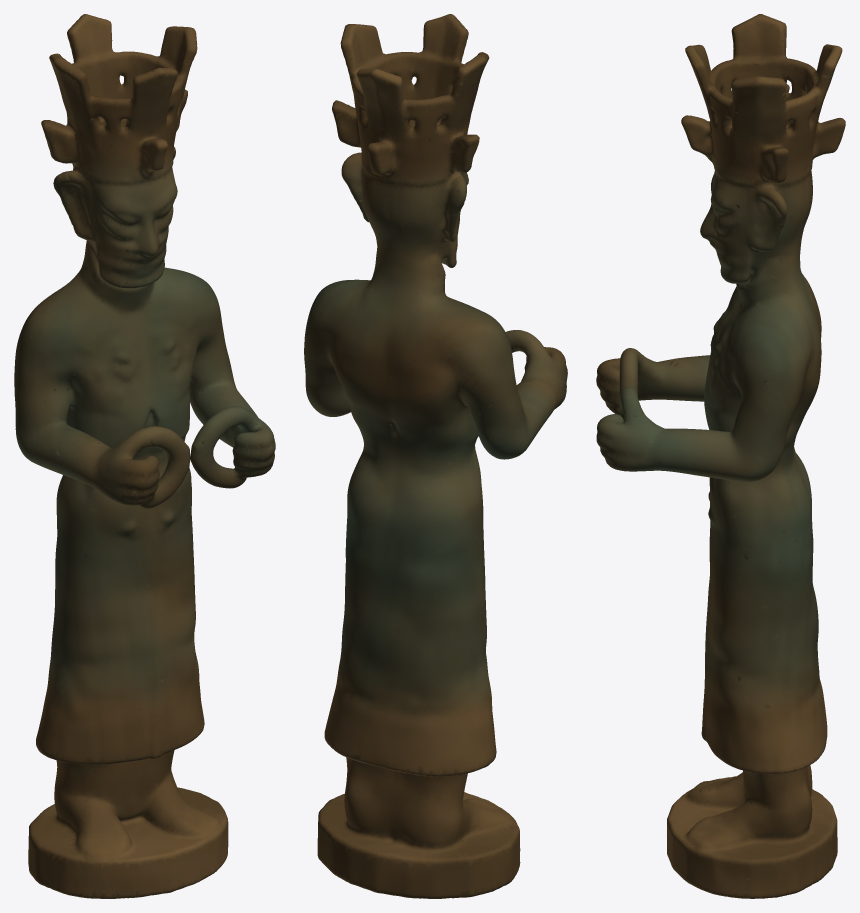
The model's file is dalirenxiang.glb.
3 views of the same model, side by side, from view 1: azimuth 30°, elevation 25°; view 2: azimuth 150°, elevation 25°; view 3: azimuth 270°, elevation 25° (orthographic).
Visible parts, largest first — view 1: model; view 2: model; view 3: model.
Part boxes in pixels (<box>): model: <box>14,14,275,898</box>; model: <box>304,14,567,898</box>; model: <box>596,14,845,898</box>.
Bounding box in the file's own units: 0.2724 × 1 × 0.279.
